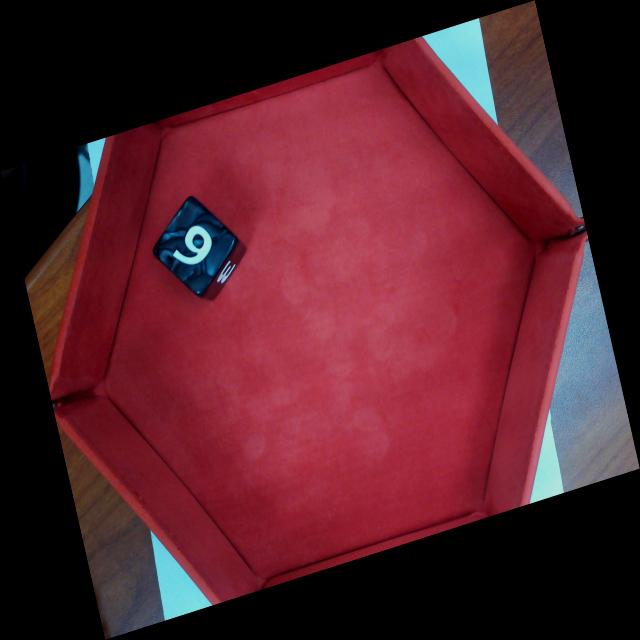dice: (157, 199, 233, 290)
